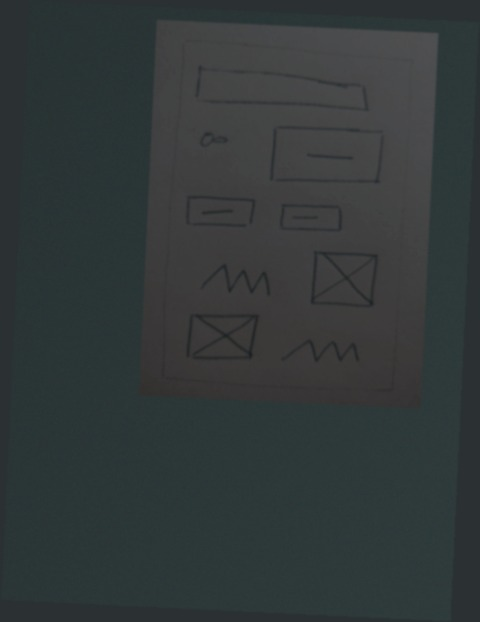button: (264, 123, 391, 189), (180, 190, 259, 233), (272, 197, 350, 240)
image: (302, 246, 385, 312), (183, 309, 262, 367)
switch: (193, 122, 234, 155)
text: (274, 331, 370, 372), (189, 257, 276, 301)
text_input: (188, 59, 375, 120)
